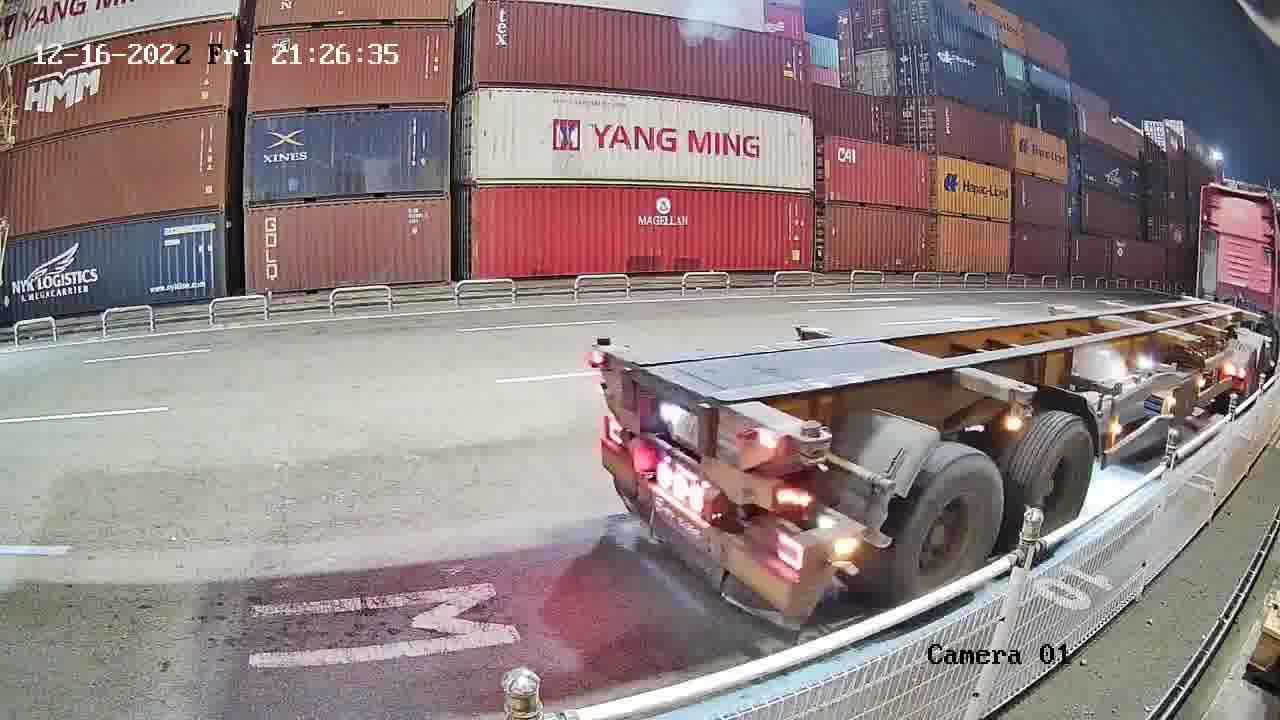Chassis: (592, 349, 807, 479)
Cone: (800, 420, 833, 462), (593, 336, 618, 367)
Tire: (897, 453, 1002, 597), (1030, 417, 1093, 532)
